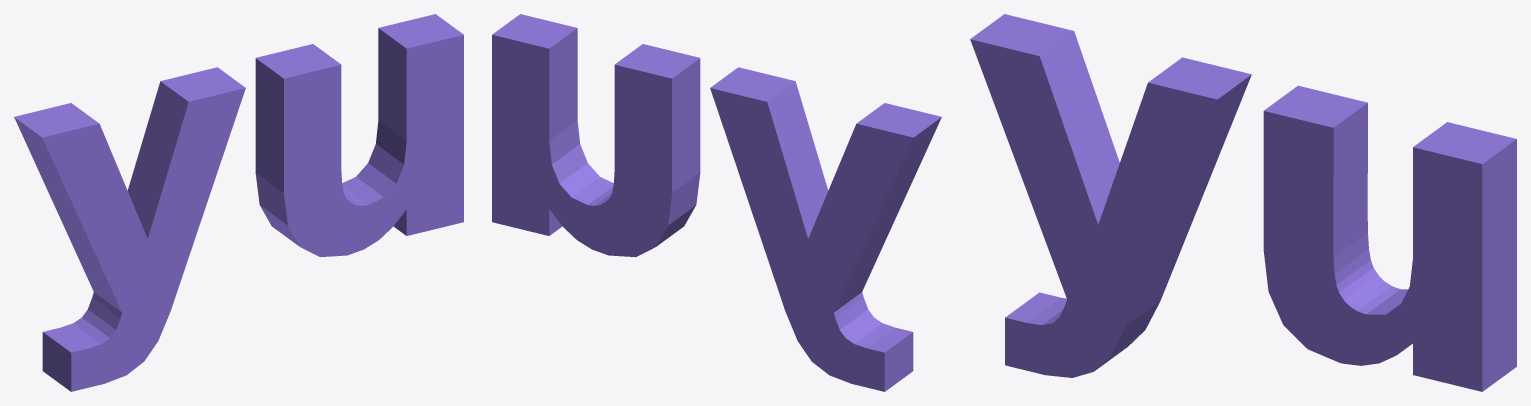
File: suku_kecil_yu.glb
3 views of the same model, side by side, from view 1: azimuth 30°, elevation 25°; view 2: azimuth 150°, elevation 25°; view 3: azimuth 330°, elevation 25° (orthographic). The views are drawn at different scales.
Visible parts, largest first — view 1: geometry_0; view 2: geometry_0; view 3: geometry_0.
Boxes of the visible parts, bbox=[...] form: geometry_0: bbox=[14, 14, 463, 391]; geometry_0: bbox=[492, 14, 941, 391]; geometry_0: bbox=[970, 14, 1516, 391].
Bounding box in the file's own units: 12.87 × 7.63 × 1.5.
